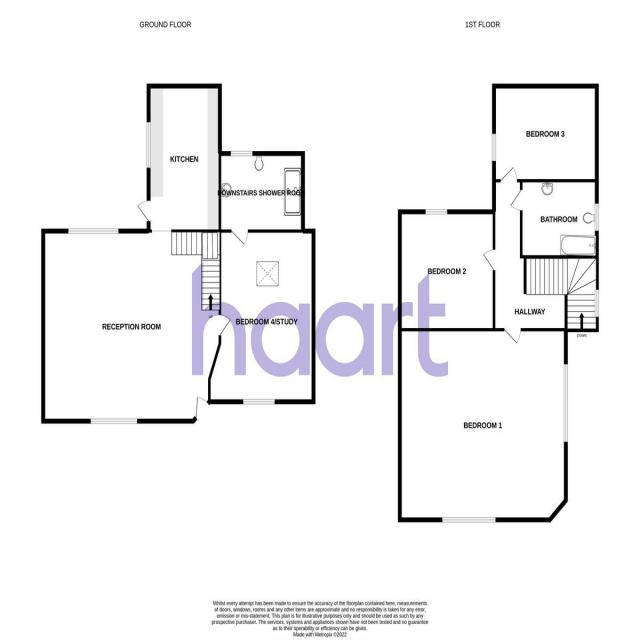DOOR: (500, 328, 526, 347), (218, 310, 233, 342), (195, 395, 211, 422), (230, 228, 252, 247), (499, 164, 520, 183), (482, 246, 496, 274), (136, 198, 151, 224), (508, 187, 523, 213)
ROOM: (41, 227, 234, 426), (398, 327, 568, 523), (207, 228, 316, 405), (133, 83, 222, 233), (398, 209, 496, 332), (492, 83, 599, 182)
WINDOW: (558, 362, 572, 451), (441, 514, 497, 525), (89, 415, 139, 427), (67, 227, 120, 235), (145, 120, 152, 169), (242, 398, 276, 406), (593, 287, 601, 320), (491, 132, 498, 163), (230, 149, 254, 158), (424, 208, 449, 216), (594, 202, 600, 232)
